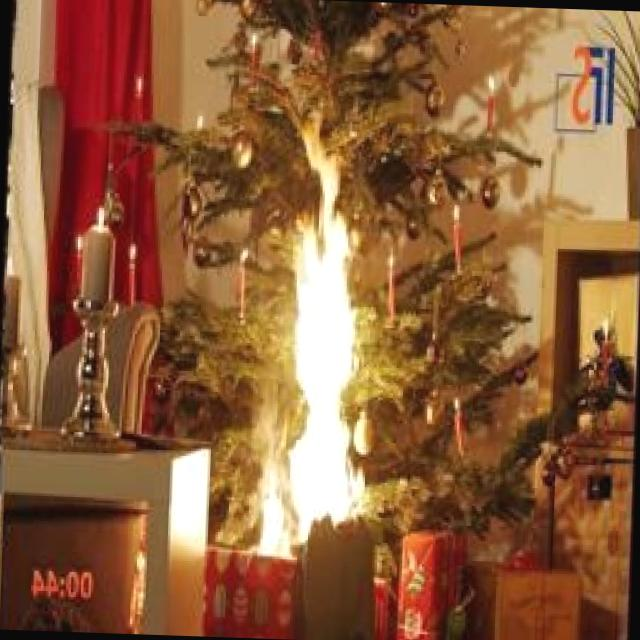fire: (238, 118, 388, 572)
